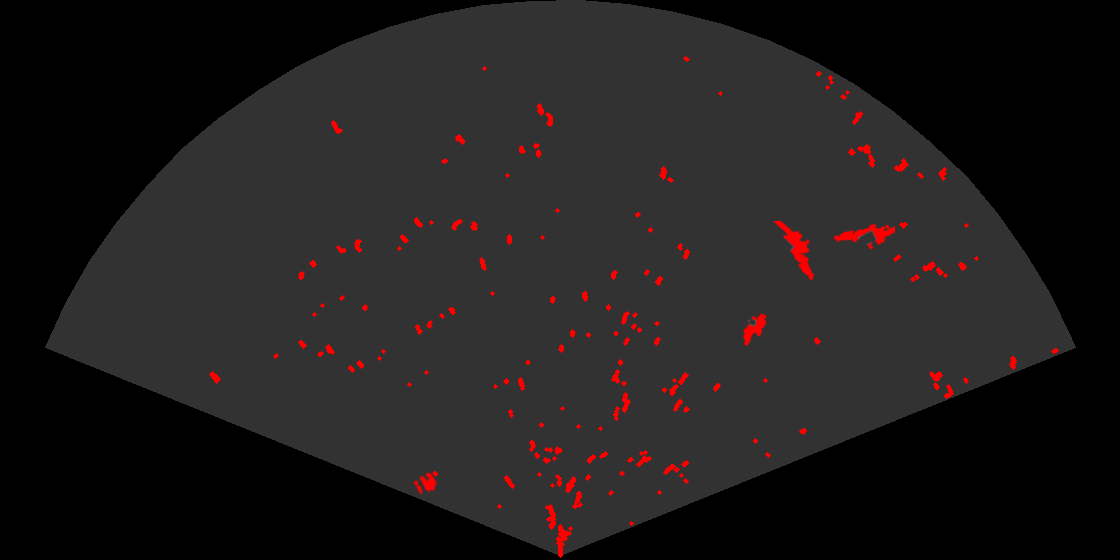AUV: (741, 312, 768, 348)
ball: (412, 471, 439, 496)
frogman: (772, 221, 816, 282), (832, 222, 895, 251)
